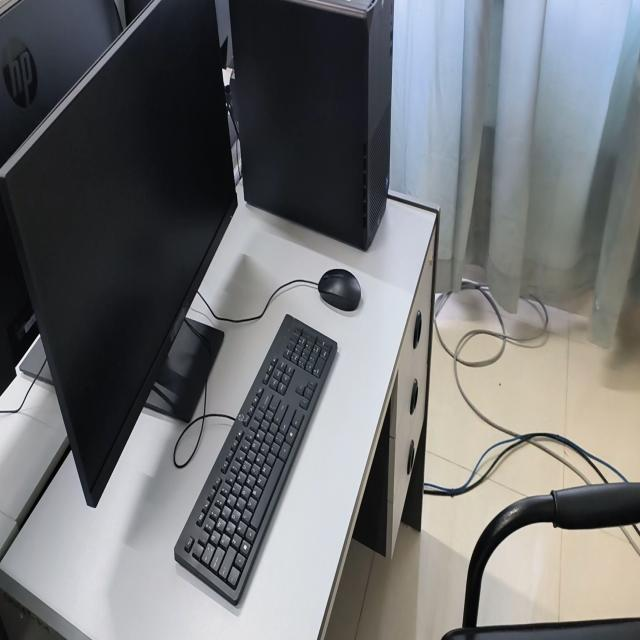Chair: (463, 482, 640, 626)
Cpu: (230, 0, 393, 250)
Keyboard: (174, 315, 338, 606)
Monitor: (0, 0, 237, 507), (0, 0, 122, 167)
Mouse: (318, 269, 361, 311), (471, 574, 481, 588), (587, 510, 595, 517), (468, 576, 470, 585)
